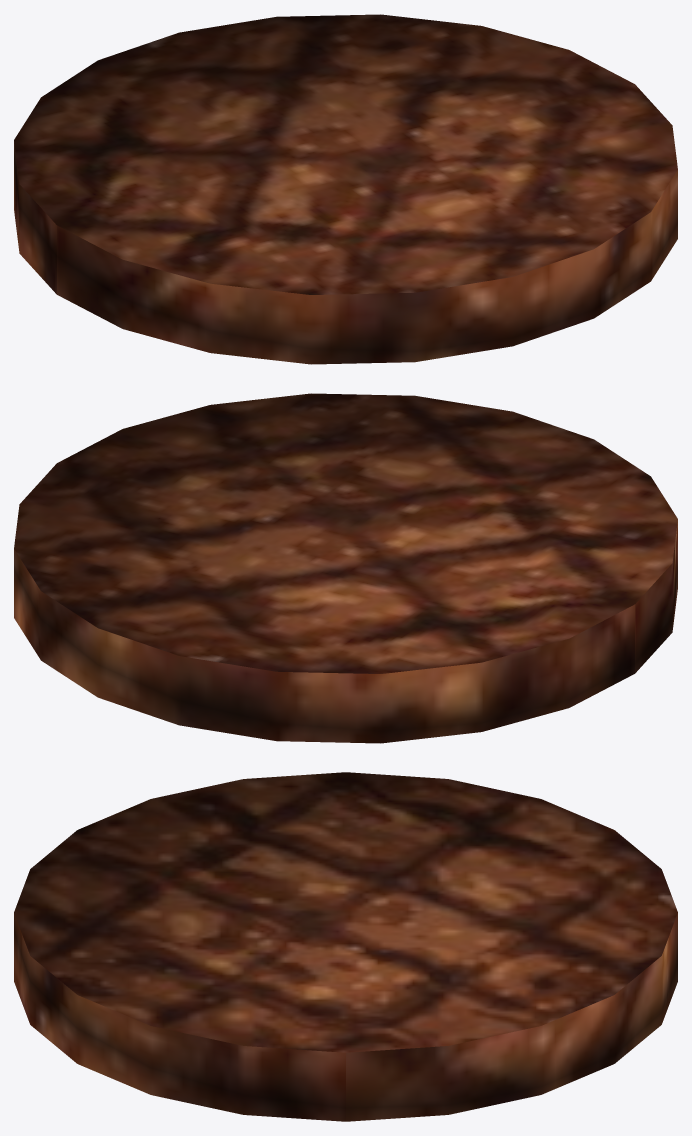
The model's file is MeatPattyCooked.glb.
3 views of the same model, one above another, from view 1: azimuth 30°, elevation 25°; view 2: azimuth 150°, elevation 25°; view 3: azimuth 270°, elevation 25° (orthographic).
Parts seen in each view (by area): view 1: MeatPattyCooked; view 2: MeatPattyCooked; view 3: MeatPattyCooked.
Boxes of the visible parts, x1=… form: MeatPattyCooked: x1=14, y1=14, x2=677, y2=364; MeatPattyCooked: x1=14, y1=393, x2=677, y2=743; MeatPattyCooked: x1=14, y1=772, x2=677, y2=1121.
Bounding box in the file's own units: 0.4019 × 0.0461 × 0.4019.
Materials: 1 (1 with a texture image).
